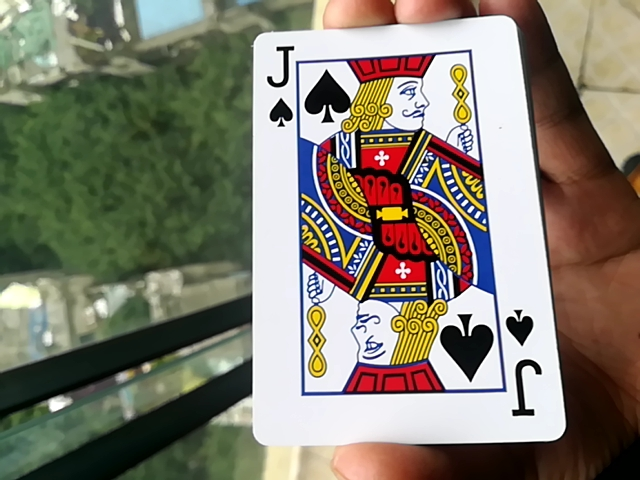ht j: (236, 28, 570, 444)
